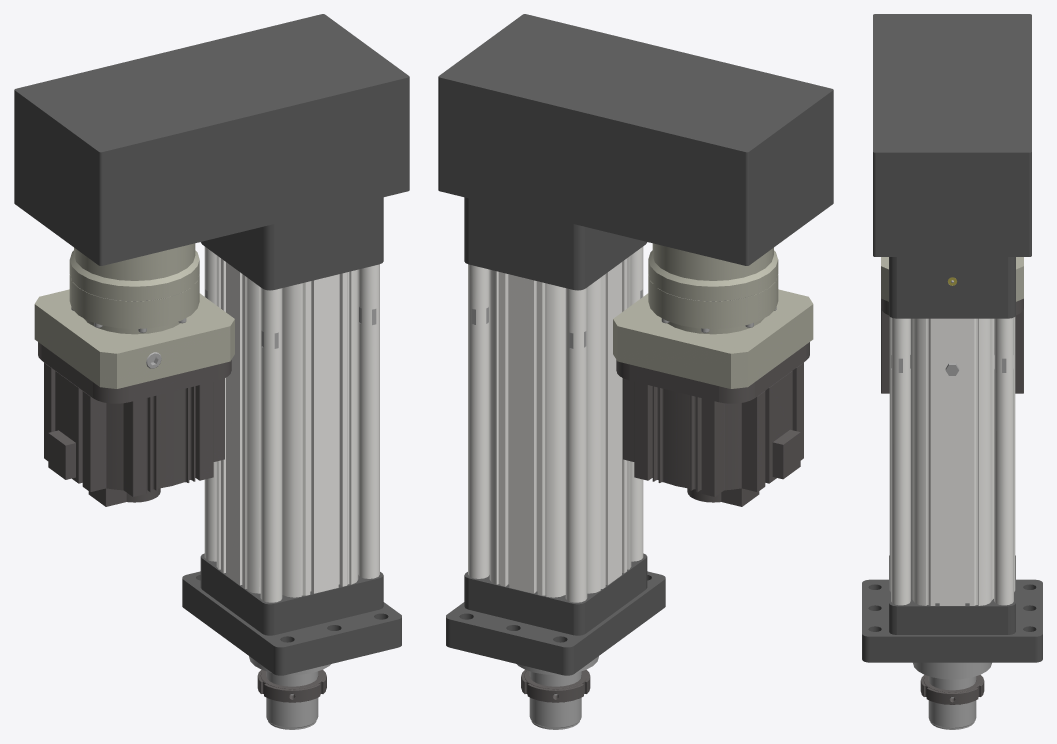
Rendered from dmc160.glb.
3 renders of one model, left to right at view 1: azimuth 30°, elevation 25°; view 2: azimuth 150°, elevation 25°; view 3: azimuth 270°, elevation 25°, orthographic. The views are drawn at different scales.
Visible parts, largest first — view 1: CC160-R01-L20S100-D030-DT300015-FM-S3-P10-0-body; view 2: CC160-R01-L20S100-D030-DT300015-FM-S3-P10-0-body; view 3: CC160-R01-L20S100-D030-DT300015-FM-S3-P10-0-body.
Part boxes in pixels (<box>): CC160-R01-L20S100-D030-DT300015-FM-S3-P10-0-body: <box>14,14,409,729</box>; CC160-R01-L20S100-D030-DT300015-FM-S3-P10-0-body: <box>438,14,833,729</box>; CC160-R01-L20S100-D030-DT300015-FM-S3-P10-0-body: <box>862,14,1042,729</box>.
Size of the model in its own units: 0.4144 by 0.836 by 0.228.
Materials: 1 (1 with a texture image).
